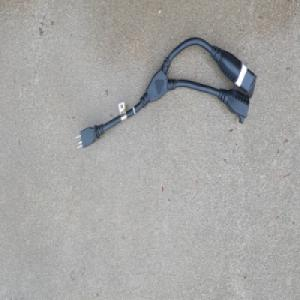Wire: (73, 35, 257, 152)
